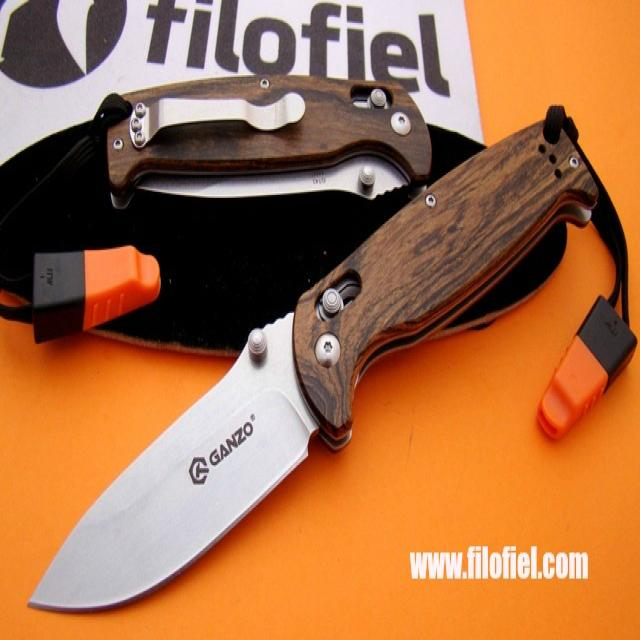knife: (24, 97, 610, 618)
